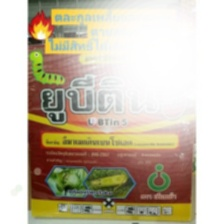book: (12, 33, 202, 223)
